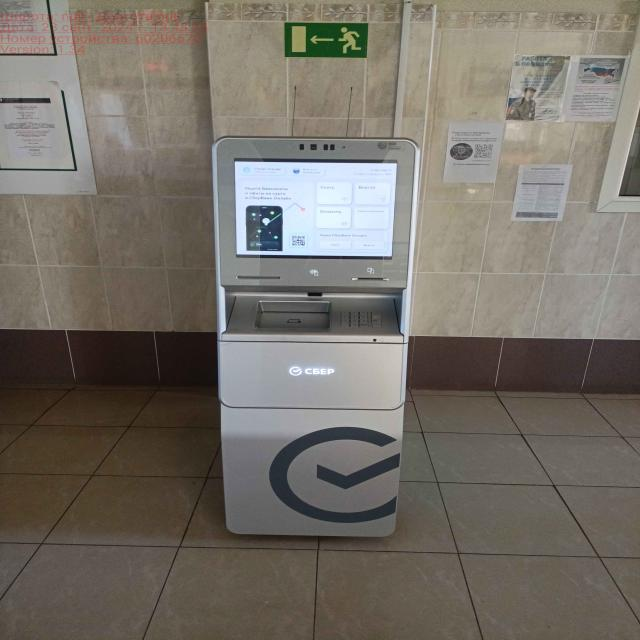bank: (212, 137, 418, 541)
